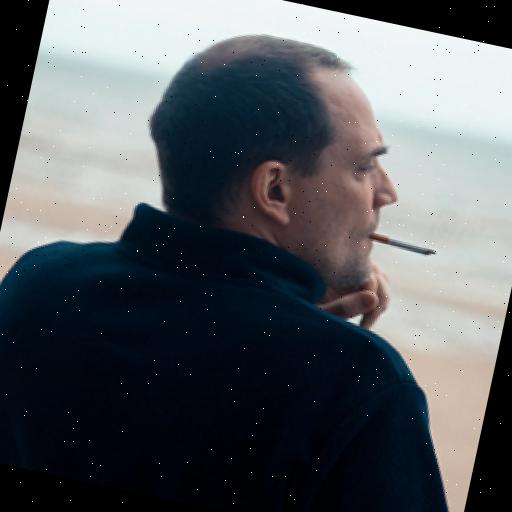terdeteksi merokok: (326, 122, 468, 302)
